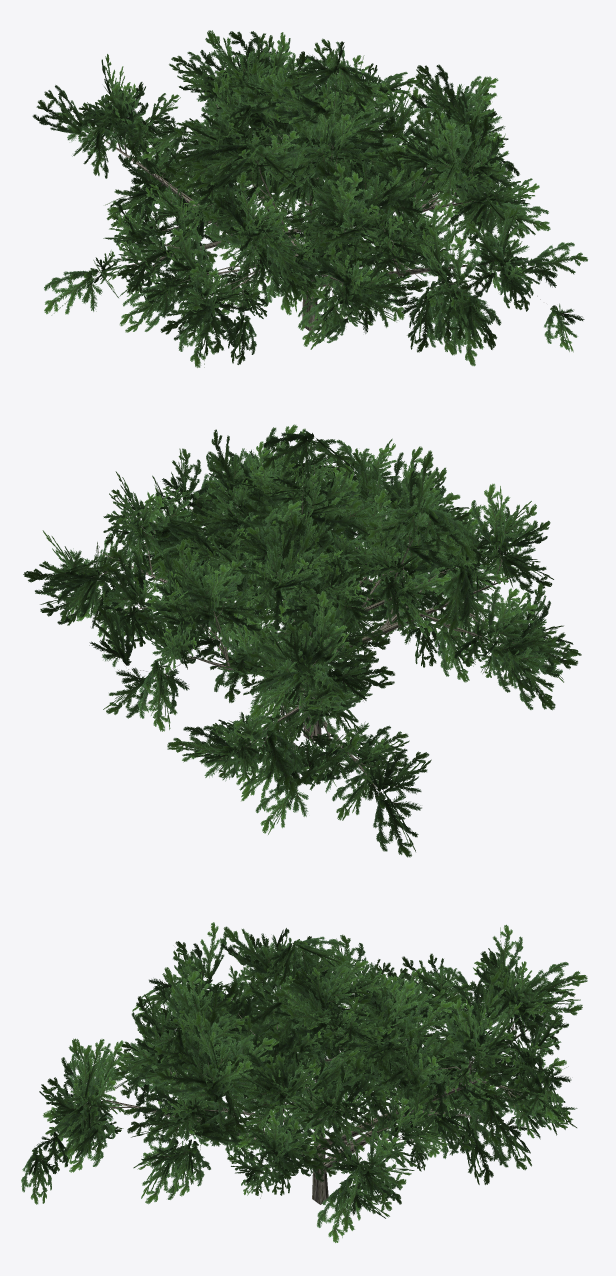
File: tree (1).glb
3 views of the same model, one above another, from view 1: azimuth 30°, elevation 25°; view 2: azimuth 150°, elevation 25°; view 3: azimuth 270°, elevation 25° (orthographic). The views are drawn at different scales.
Parts seen in each view (by area): view 1: Tree; view 2: Tree; view 3: Tree.
Boxes of the visible parts, x1,y1,x2,y2 form: Tree: [32, 30, 587, 367]; Tree: [23, 424, 581, 857]; Tree: [21, 922, 587, 1242].
Bounding box in the file's own units: 31.88 × 20.43 × 35.05.
Materials: 2 (2 with a texture image).
